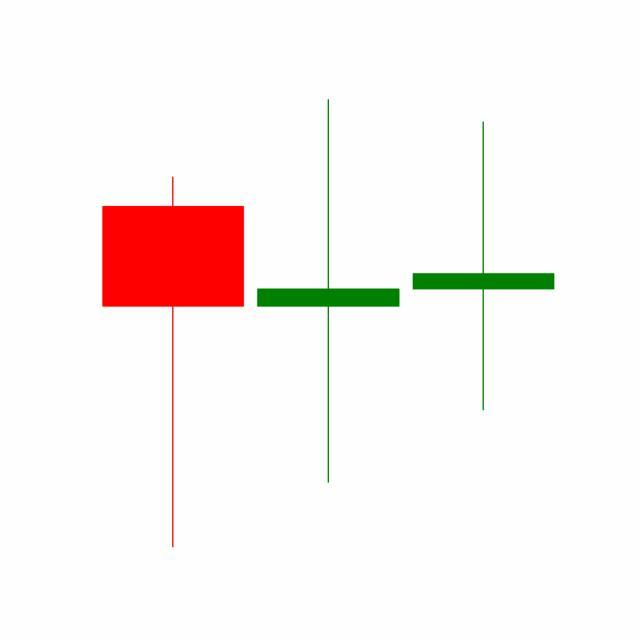Spinning Top: (250, 95, 407, 487)
